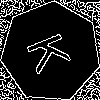K: (25, 27, 80, 75)
